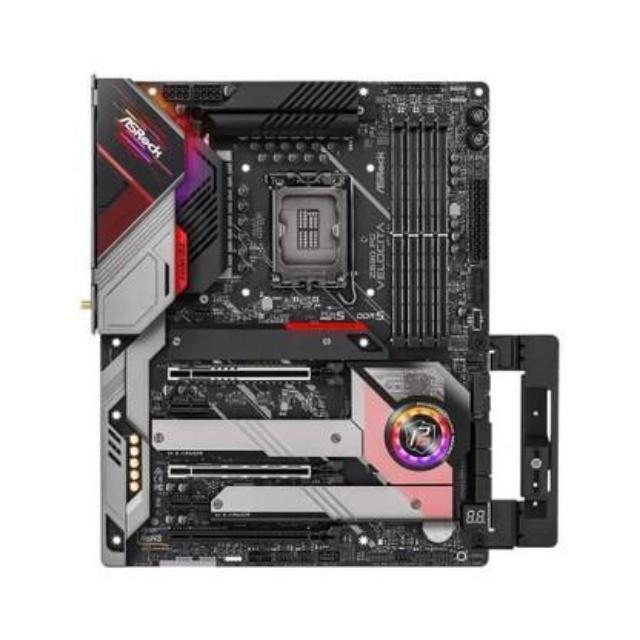Mainboard: (82, 69, 566, 586)
